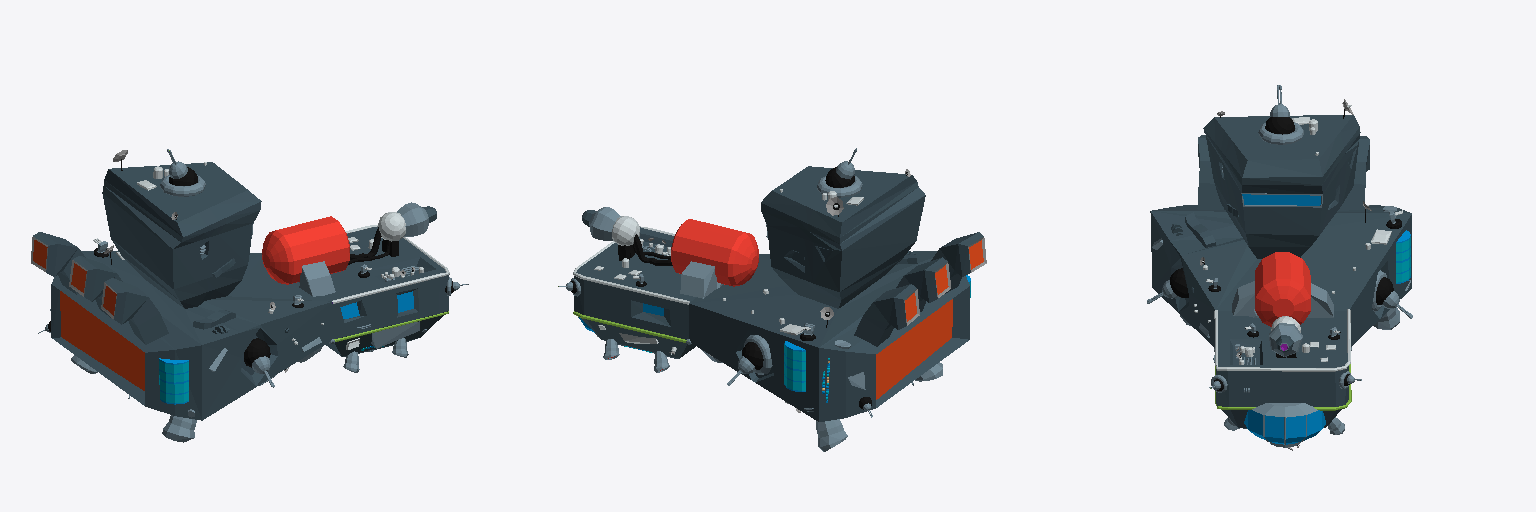
3 views of the same model, side by side, from view 1: azimuth 30°, elevation 25°; view 2: azimuth 150°, elevation 25°; view 3: azimuth 270°, elevation 25° (orthographic).
Visible parts, largest first — view 1: group[number redacted], group[number redacted], group[number redacted], group[number redacted], group[number redacted], group[number redacted], group[number redacted], group[number redacted], group[number redacted], group[number redacted], group[number redacted], group[number redacted] (+3 smaller); view 2: group[number redacted], group[number redacted], group[number redacted], group[number redacted], group[number redacted], group[number redacted], group[number redacted], group[number redacted], group[number redacted], group[number redacted], group[number redacted], group[number redacted] (+1 smaller); view 3: group[number redacted], group[number redacted], group[number redacted], group[number redacted], group[number redacted], group[number redacted], group[number redacted], group[number redacted], group[number redacted], group[number redacted], group[number redacted], group[number redacted] (+2 smaller).
Part boxes in pixels (x1,y1,x2,y2): group[number redacted]: (51, 162, 448, 420); group[number redacted]: (262, 216, 349, 284); group[number redacted]: (101, 278, 168, 344); group[number redacted]: (31, 232, 85, 294); group[number redacted]: (69, 256, 122, 317); group[number redacted]: (159, 358, 188, 404); group[number redacted]: (382, 202, 436, 256); group[number redacted]: (299, 261, 335, 296); group[number redacted]: (244, 338, 274, 387); group[number redacted]: (162, 415, 196, 442); group[number redacted]: (332, 225, 449, 303); group[number redacted]: (377, 212, 405, 241); group[number redacted]: (574, 166, 969, 421); group[number redacted]: (671, 219, 758, 286); group[number redacted]: (854, 284, 919, 346); group[number redacted]: (931, 232, 986, 293); group[number redacted]: (896, 257, 950, 311); group[number redacted]: (582, 207, 634, 260); group[number redacted]: (680, 261, 716, 298); group[number redacted]: (784, 341, 805, 391); group[number redacted]: (816, 419, 847, 451); group[number redacted]: (727, 342, 763, 385); group[number redacted]: (612, 216, 639, 245); group[number redacted]: (573, 226, 689, 304); group[number redacted]: (1150, 115, 1411, 428); group[number redacted]: (1255, 252, 1310, 326); group[number redacted]: (1244, 403, 1325, 447); group[number redacted]: (1198, 135, 1224, 209); group[number redacted]: (1338, 136, 1369, 210); group[number redacted]: (1269, 323, 1302, 357); group[number redacted]: (1214, 309, 1350, 371); group[number redacted]: (1265, 85, 1294, 134); group[number redacted]: (1396, 230, 1410, 283); group[number redacted]: (1307, 283, 1333, 317); group[number redacted]: (1232, 281, 1254, 315); group[number redacted]: (1147, 268, 1188, 303).
Size of the model in its own units: 4.38 by 2.95 by 2.79.